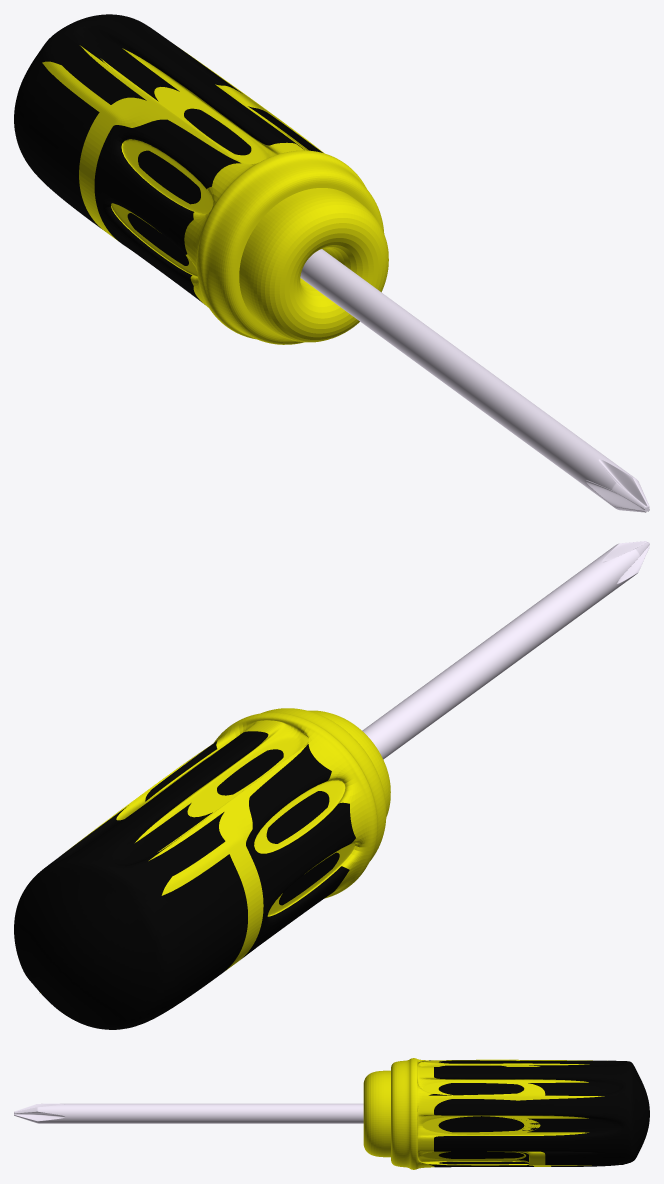
The model's file is PHILLIPSSCREW.fbx.
3 renders of one model, top to bottom at view 1: azimuth 30°, elevation 25°; view 2: azimuth 150°, elevation 25°; view 3: azimuth 270°, elevation 25°, orthographic. The views are drawn at different scales.
Visible parts, largest first — view 1: Circle; view 2: Circle; view 3: Circle.
Part boxes in pixels (bbox=[...]): Circle: bbox=[14, 14, 649, 512]; Circle: bbox=[14, 541, 649, 1029]; Circle: bbox=[14, 1058, 649, 1169].
Bounding box in the file's own units: 1109 × 1109 × 6312.
